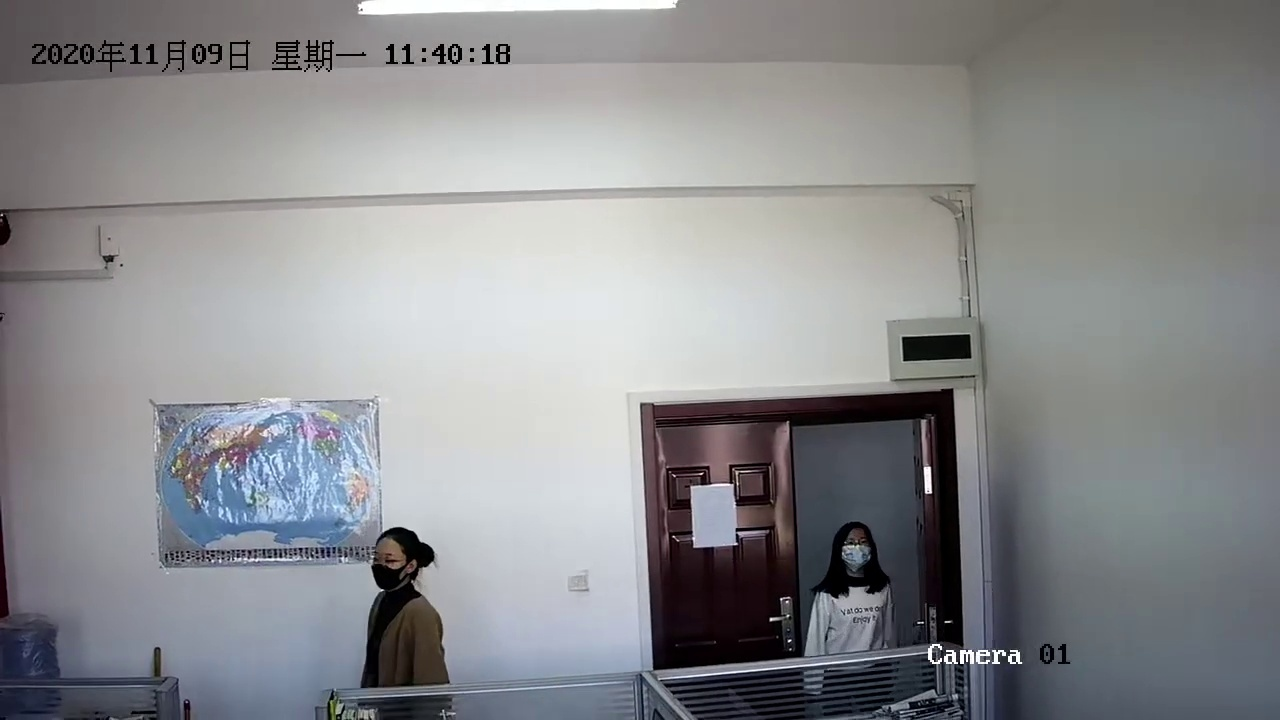mask: (369, 525, 424, 597), (833, 519, 881, 575)
